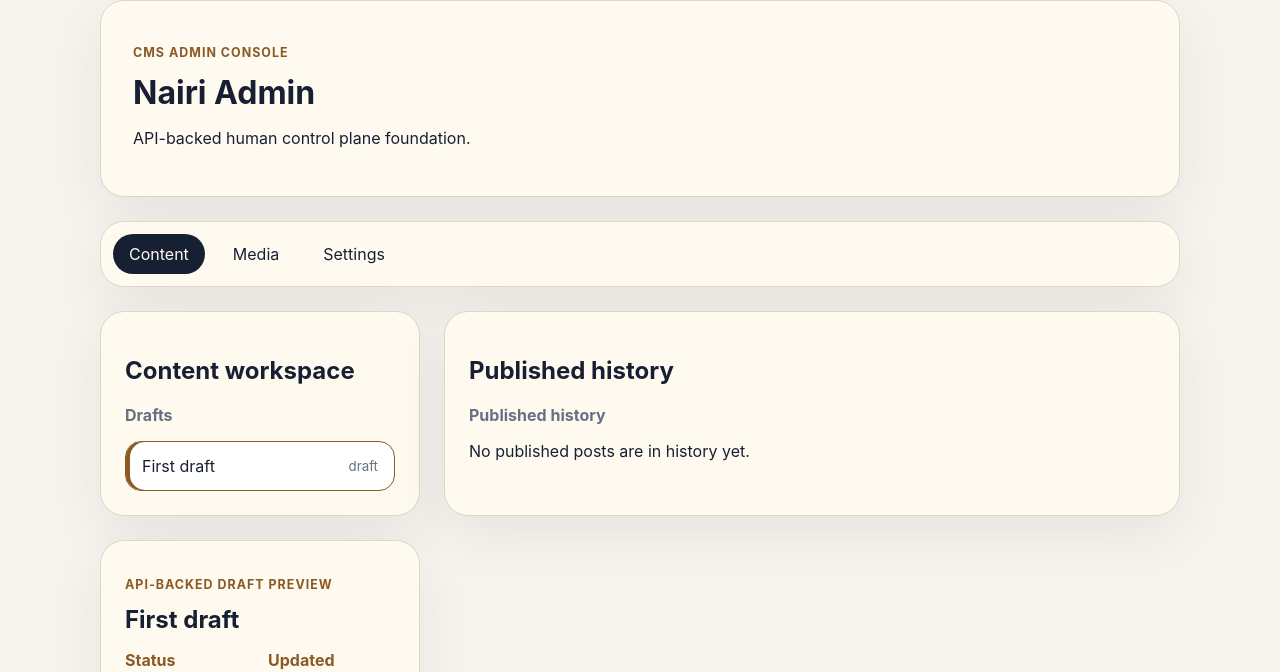
Test: Nairi admin console shell › persists a publish review request through the injected request contract without publishing
This screenshot has width=1280, height=672.
What coordinates should you click on to do the following:
click the button "First draft draft"
I would click on:
 (178, 466)
Its box is [125,441,395,491].
(page scrolled)
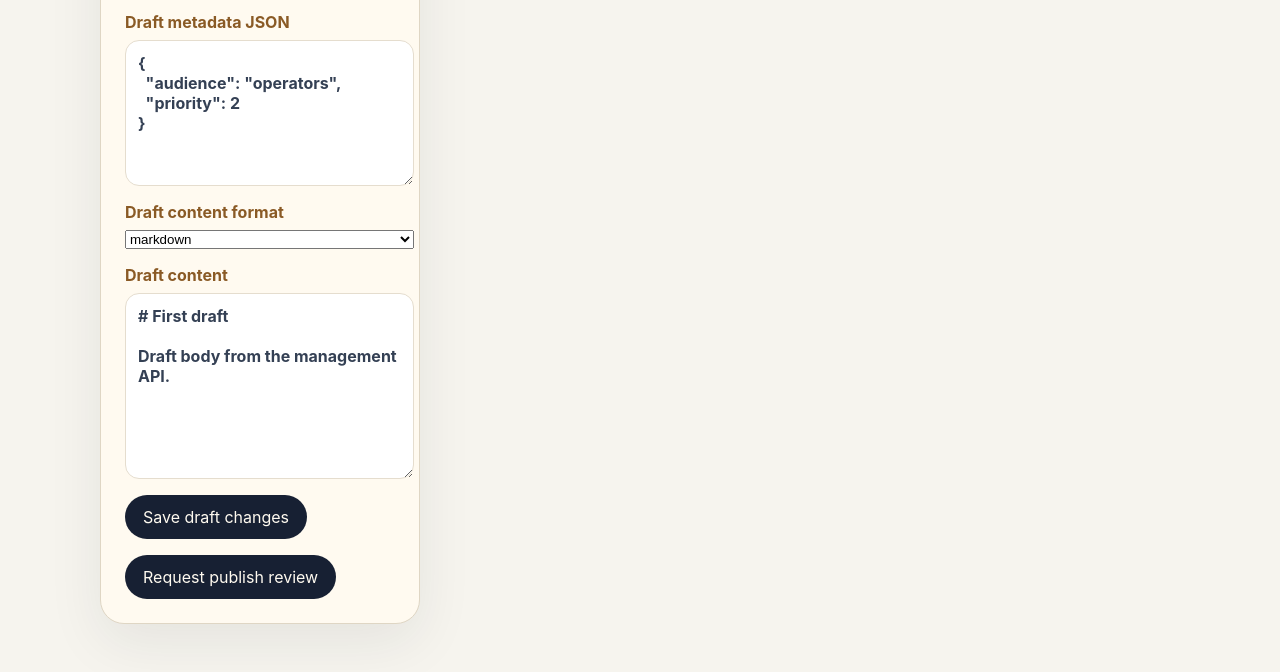
What coordinates should you click on to do the following:
click the button "Request publish review"
I would click on:
 (231, 577)
Its box is [125,555,336,599].
(page scrolled)
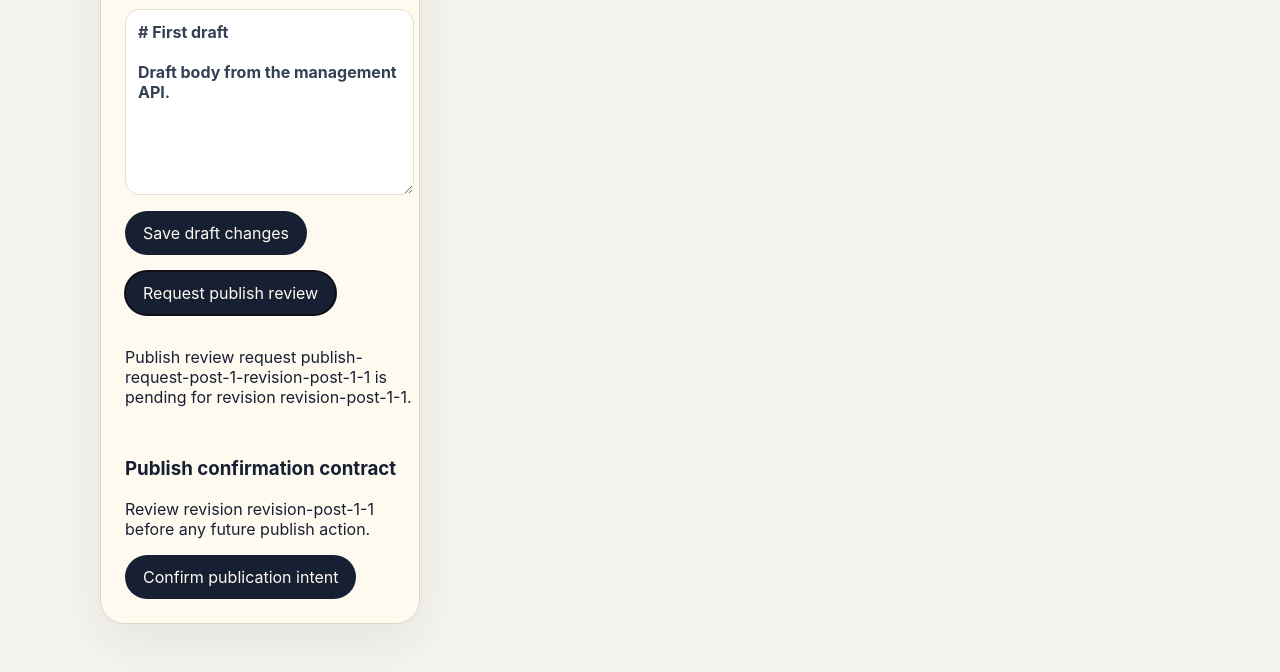
Result: the message named "Publish review request status" shows "Publish review request publish-request-post-1-revision-post-1-1 is pending for revision revision-post-1-1." at [125,347,412,407]
